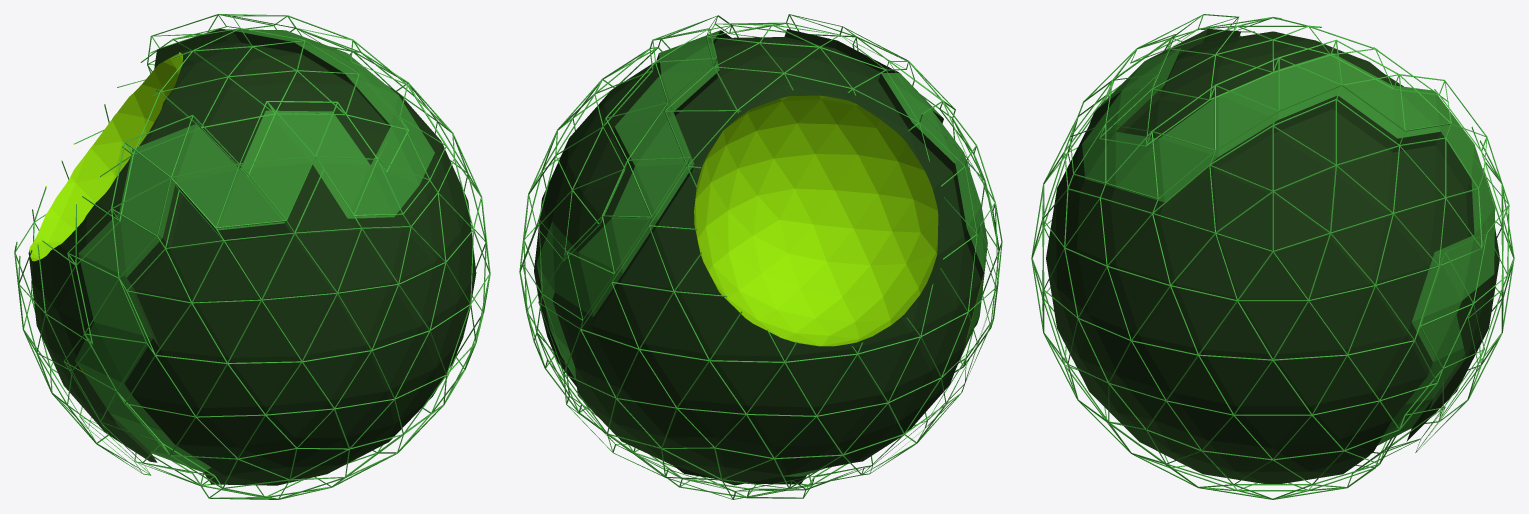
Rendered from Planet17.glb.
The picture shows the model from 3 angles, left to right: view 1: azimuth 30°, elevation 25°; view 2: azimuth 150°, elevation 25°; view 3: azimuth 270°, elevation 25°; orthographic projection.
Visible parts, largest first — view 1: Planet_17; view 2: Planet_17; view 3: Planet_17.
Boxes of the visible parts, left/top/right/bottom form: Planet_17: left=14, top=14, right=490, bottom=499; Planet_17: left=519, top=14, right=1002, bottom=499; Planet_17: left=1031, top=14, right=1514, bottom=499.
Bounding box in the file's own units: 3.79 × 3.83 × 3.79.
